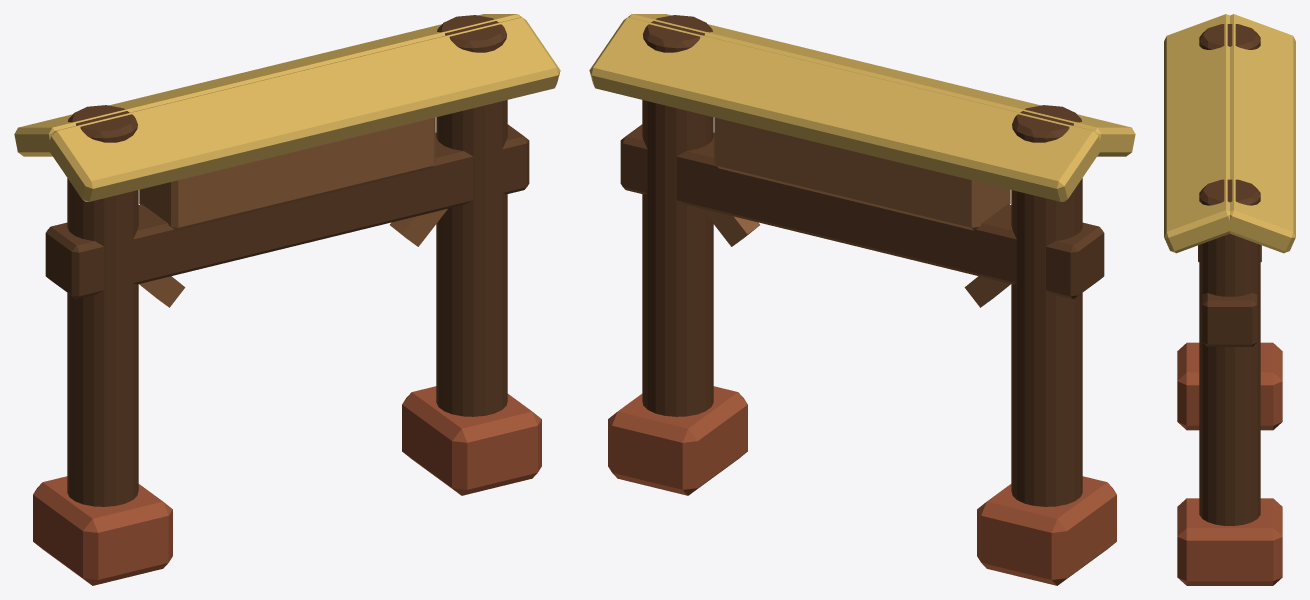
File: Savanna_Obs_WoodGate.fbx
3 views of the same model, side by side, from view 1: azimuth 30°, elevation 25°; view 2: azimuth 150°, elevation 25°; view 3: azimuth 270°, elevation 25° (orthographic). The views are drawn at different scales.
Parts seen in each view (by area): view 1: Savanna_Obs_WoodGate; view 2: Savanna_Obs_WoodGate; view 3: Savanna_Obs_WoodGate.
Boxes of the visible parts, x1=… form: Savanna_Obs_WoodGate: x1=14, y1=14, x2=560, y2=585; Savanna_Obs_WoodGate: x1=589, y1=14, x2=1135, y2=585; Savanna_Obs_WoodGate: x1=1164, y1=14, x2=1295, y2=585.
Bounding box in the file's own units: 2.96 × 2.63 × 0.824.
